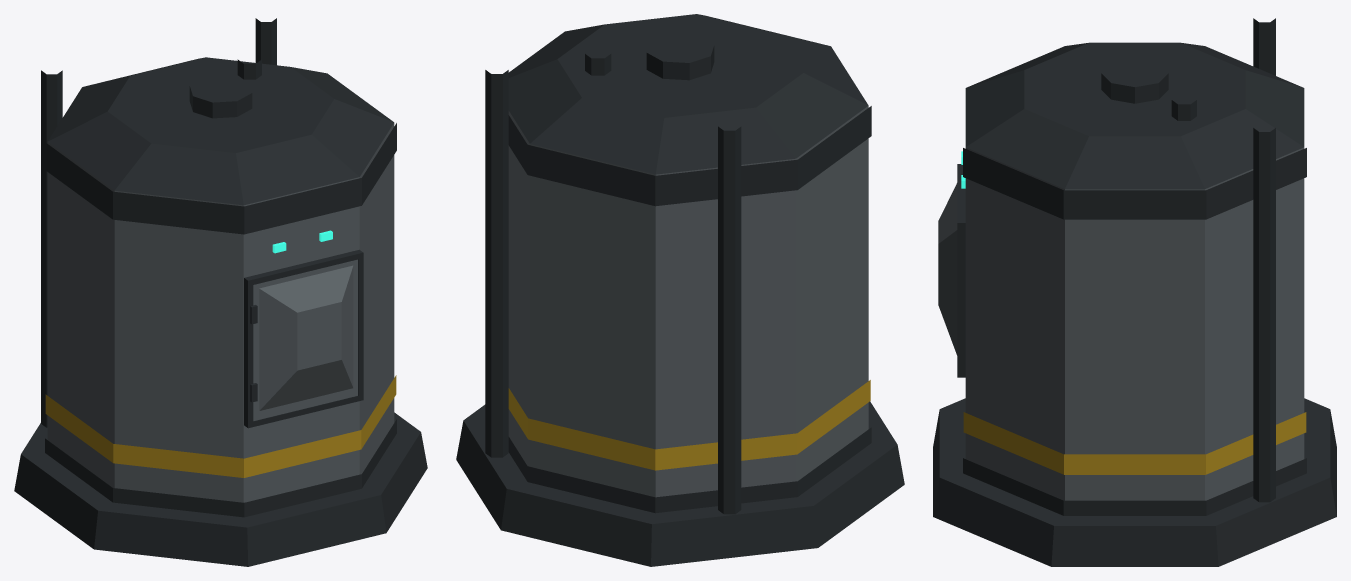
Rendered from containment_tank.glb.
The picture shows the model from 3 angles, left to right: view 1: azimuth 30°, elevation 25°; view 2: azimuth 150°, elevation 25°; view 3: azimuth 270°, elevation 25°; orthographic projection. The views are drawn at different scales.
Parts seen in each view (by area): view 1: body, hatch_bulge, pipes, hatch_frame, hatch_panel; view 2: body, pipes; view 3: body, pipes, hatch_bulge, hatch_frame.
Part boxes in pixels (x1,y1,x2,y2): body: (14,57,427,566); hatch_bulge: (259,265,353,410); pipes: (41,18,276,427); hatch_frame: (244,249,363,428); hatch_panel: (253,259,357,420); body: (456,14,904,566); pipes: (485,46,741,514); body: (933,42,1336,566); pipes: (1101,18,1275,502); hatch_bulge: (938,183,957,355); hatch_frame: (957,164,965,377).
Size of the model in its own units: 2.86 by 3.2 by 2.86.
